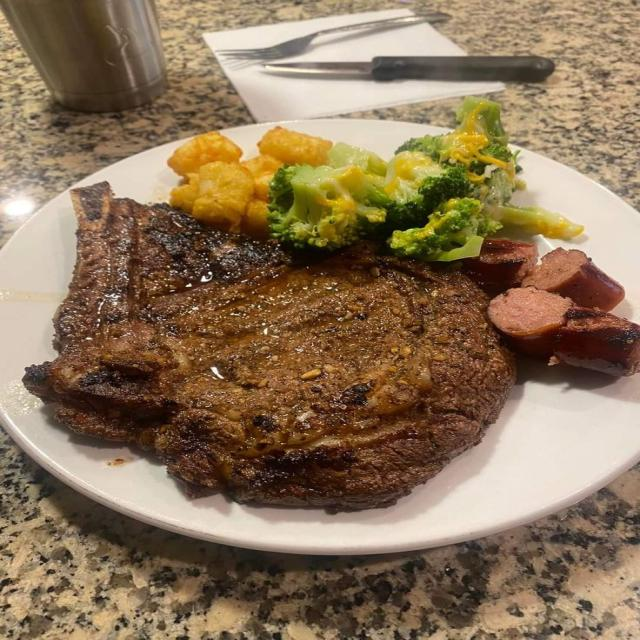beef steak: (23, 182, 515, 510)
broccoli: (396, 97, 519, 183), (269, 166, 388, 249), (479, 169, 584, 239), (389, 198, 501, 261), (385, 151, 471, 229), (486, 203, 584, 240), (456, 96, 508, 146), (328, 143, 386, 176), (396, 136, 444, 161)
sausage: (523, 248, 624, 311), (554, 307, 639, 376), (489, 287, 572, 356), (462, 237, 537, 296)
